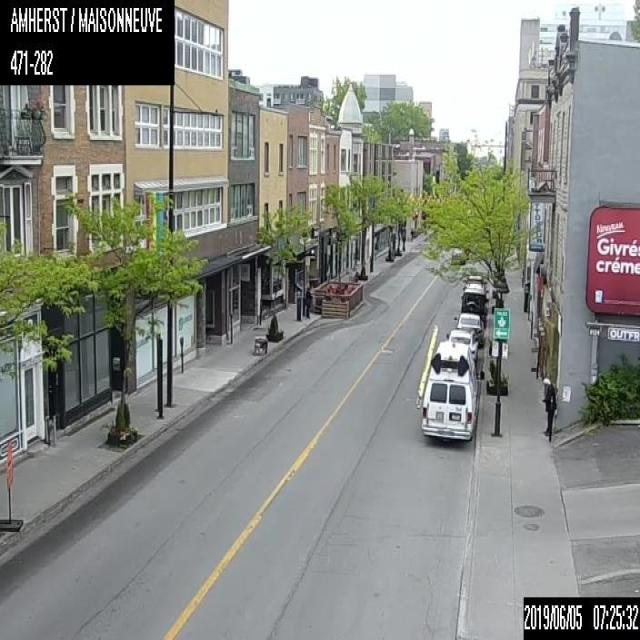pedestrian: (541, 376, 556, 441), (303, 286, 312, 318)
vehicle: (415, 322, 484, 441), (460, 288, 488, 328), (445, 328, 479, 360), (453, 312, 485, 345), (462, 280, 488, 295), (462, 274, 486, 288)
